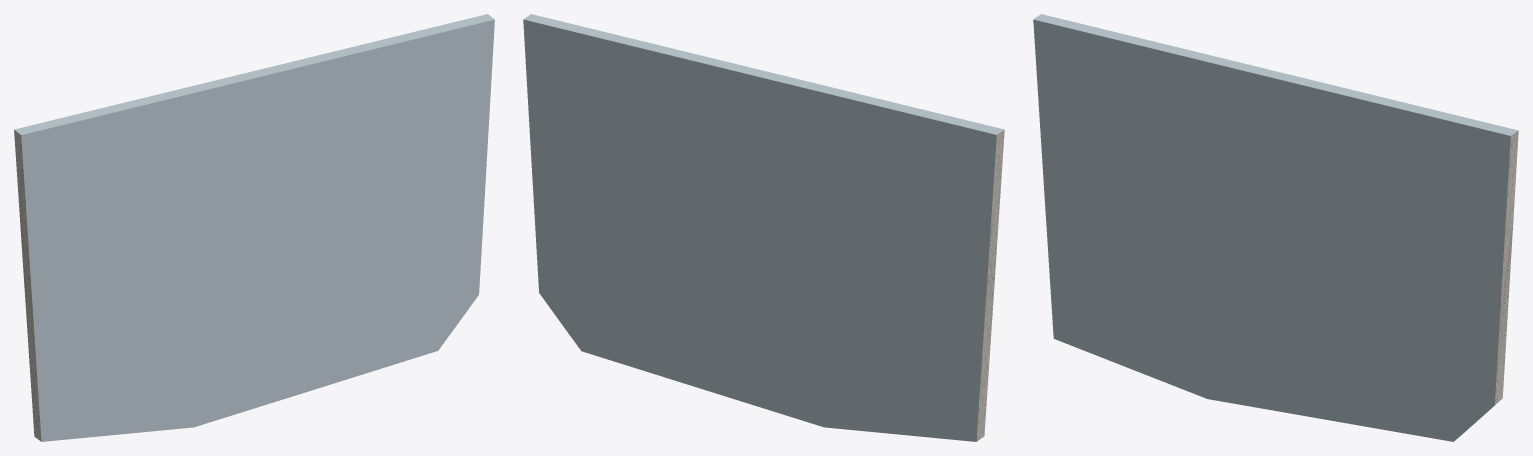
The model's file is glass2.glb.
3 renders of one model, left to right at view 1: azimuth 30°, elevation 25°; view 2: azimuth 150°, elevation 25°; view 3: azimuth 330°, elevation 25°, orthographic.
Visible parts, largest first — view 1: broken_window_cell.002; view 2: broken_window_cell.002; view 3: broken_window_cell.002.
Boxes of the visible parts, x1,y1,x2,y2 form: broken_window_cell.002: (14, 14, 494, 441); broken_window_cell.002: (523, 14, 1004, 441); broken_window_cell.002: (1033, 14, 1518, 441).
Bounding box in the file's own units: 1.7 × 1.15 × 0.0471.
2 materials, 1 textured.
